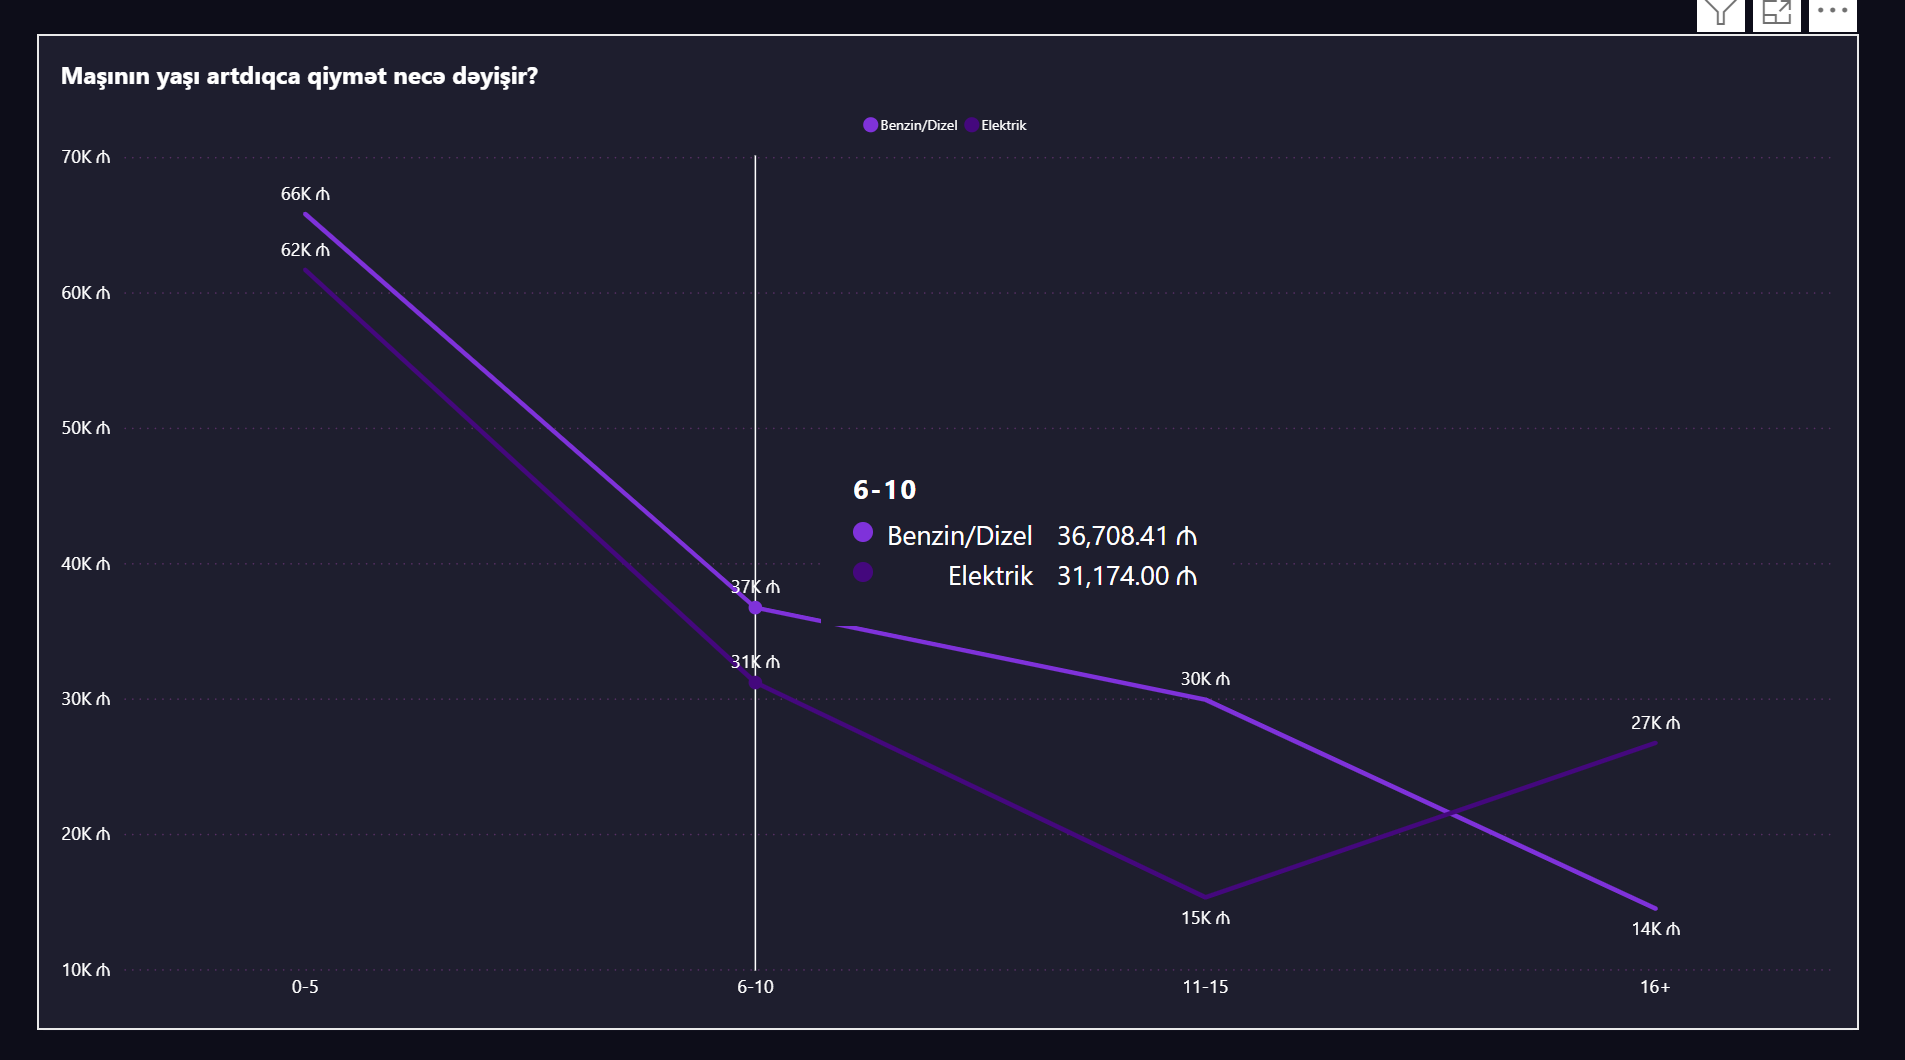

What the dashboard file says about the page in this screenshot:
{"tool":"powerbi","page":{"name":"Page 3","canvas":[1280,720],"ordinal":2},"visuals":[{"type":"lineChart","title":"Maşının yaşı artdıqca qiymət necə dəyişir?","fields":{"Y":["Avg(data csv.Qiymət_AZN)"],"Series":["data csv.Mühərrik Tipi"],"Category":["data csv.Yaş qrupu"]},"box":[35.8,30.5,1208,660.3],"z":0}]}

Visuals, with their boxes in screenshot pixels (x1, y1, x2, y2):
"Maşının yaşı artdıqca qiymət necə dəyişir?" lineChart: (left=29, top=31, right=1850, bottom=1027)
